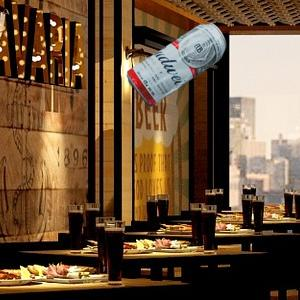can: (124, 20, 229, 105)
